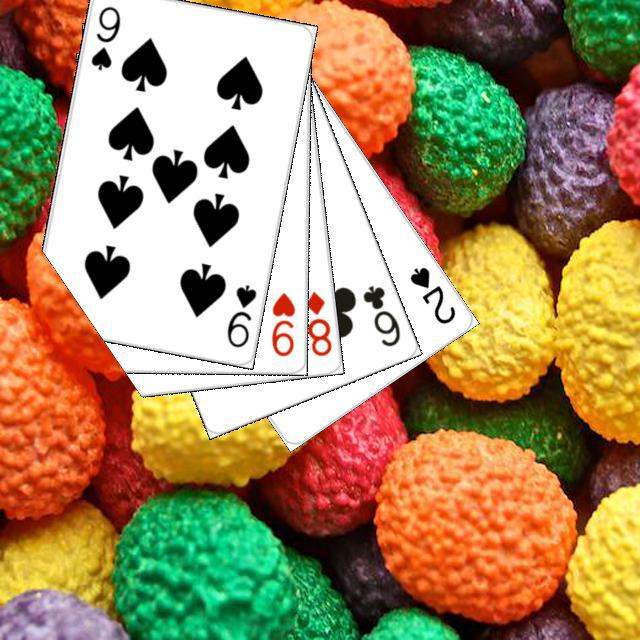2s: (404, 261, 458, 326)
6c: (357, 280, 402, 349)
8d: (301, 286, 333, 358)
9h: (267, 287, 297, 358)
9s: (86, 1, 122, 72), (222, 280, 258, 349)
